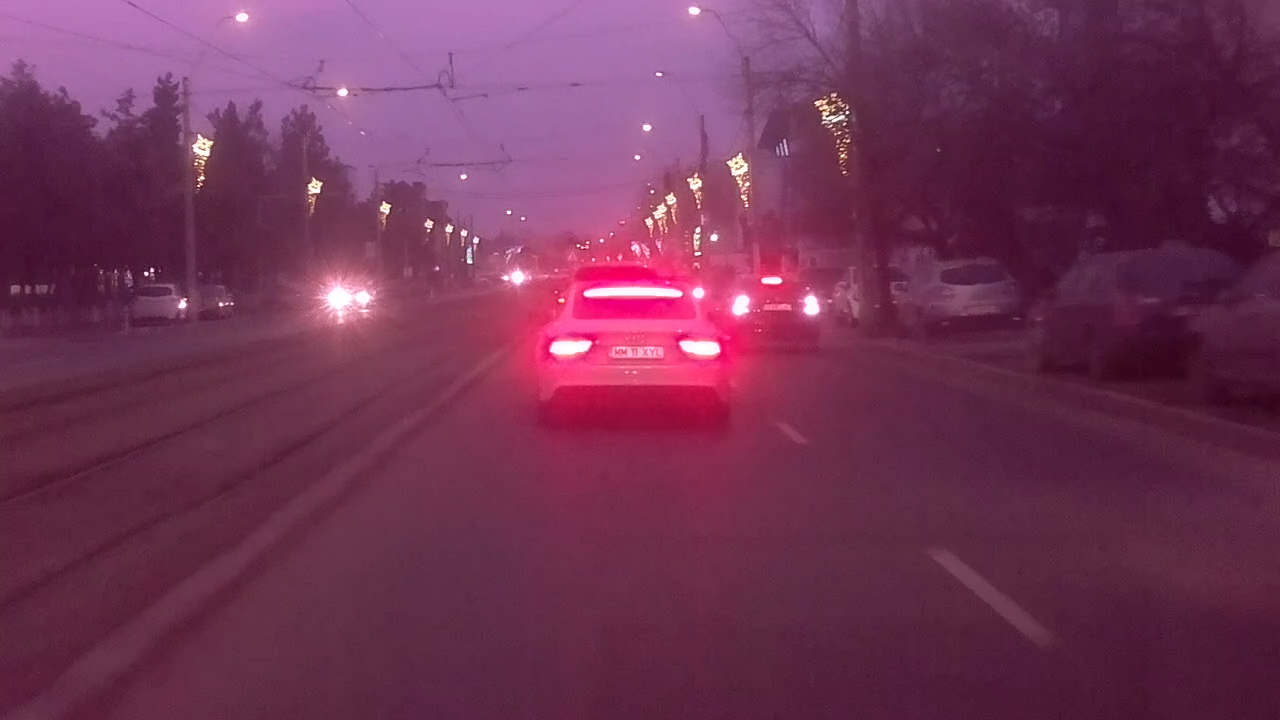license-plate: (603, 341, 668, 362)
